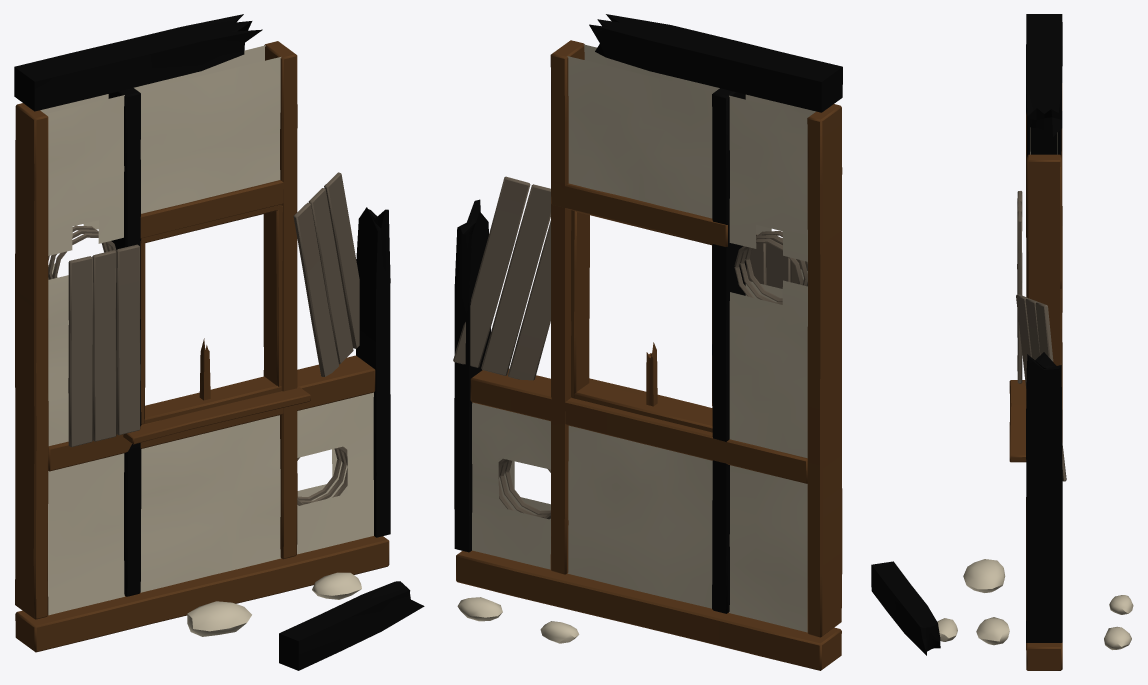
The model's file is wand_fenster_kaputt.glb.
The picture shows the model from 3 angles, left to right: view 1: azimuth 30°, elevation 25°; view 2: azimuth 150°, elevation 25°; view 3: azimuth 270°, elevation 25°; orthographic projection. The views are drawn at different scales.
Parts seen in each view (by area): view 1: wand_fenster_kaputt; view 2: wand_fenster_kaputt; view 3: wand_fenster_kaputt.
Part boxes in pixels (x1=…): wand_fenster_kaputt: x1=14, y1=14, x2=424, y2=670; wand_fenster_kaputt: x1=453, y1=14, x2=842, y2=670; wand_fenster_kaputt: x1=871, y1=14, x2=1133, y2=670.
Bounding box in the file's own units: 2 × 3.07 × 1.45.
